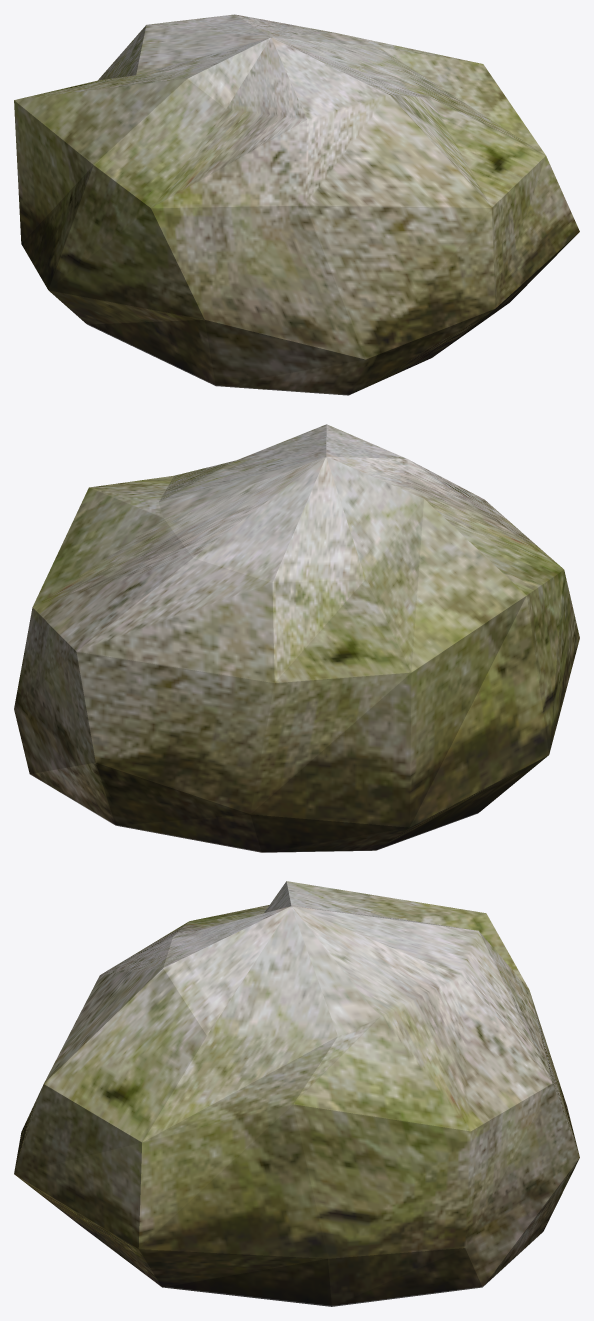
Rendered from rock.fbx.
The picture shows the model from 3 angles, top to bottom: view 1: azimuth 30°, elevation 25°; view 2: azimuth 150°, elevation 25°; view 3: azimuth 270°, elevation 25°; orthographic projection. The views are drawn at different scales.
Parts seen in each view (by area): view 1: MODELS_bin_014:poly000; view 2: MODELS_bin_014:poly000; view 3: MODELS_bin_014:poly000.
Boxes of the visible parts, x1,y1,x2,y2 form: MODELS_bin_014:poly000: [14, 14, 579, 395]; MODELS_bin_014:poly000: [14, 424, 579, 852]; MODELS_bin_014:poly000: [14, 881, 579, 1306].
Bounding box in the file's own units: 122 × 68.71 × 123.
1 material, 1 textured.
